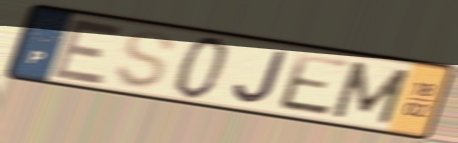0: (170, 35, 231, 101)
E: (47, 15, 128, 88), (275, 50, 354, 120)
J: (230, 48, 291, 105)
M: (327, 58, 414, 127)
S: (112, 28, 178, 91)
